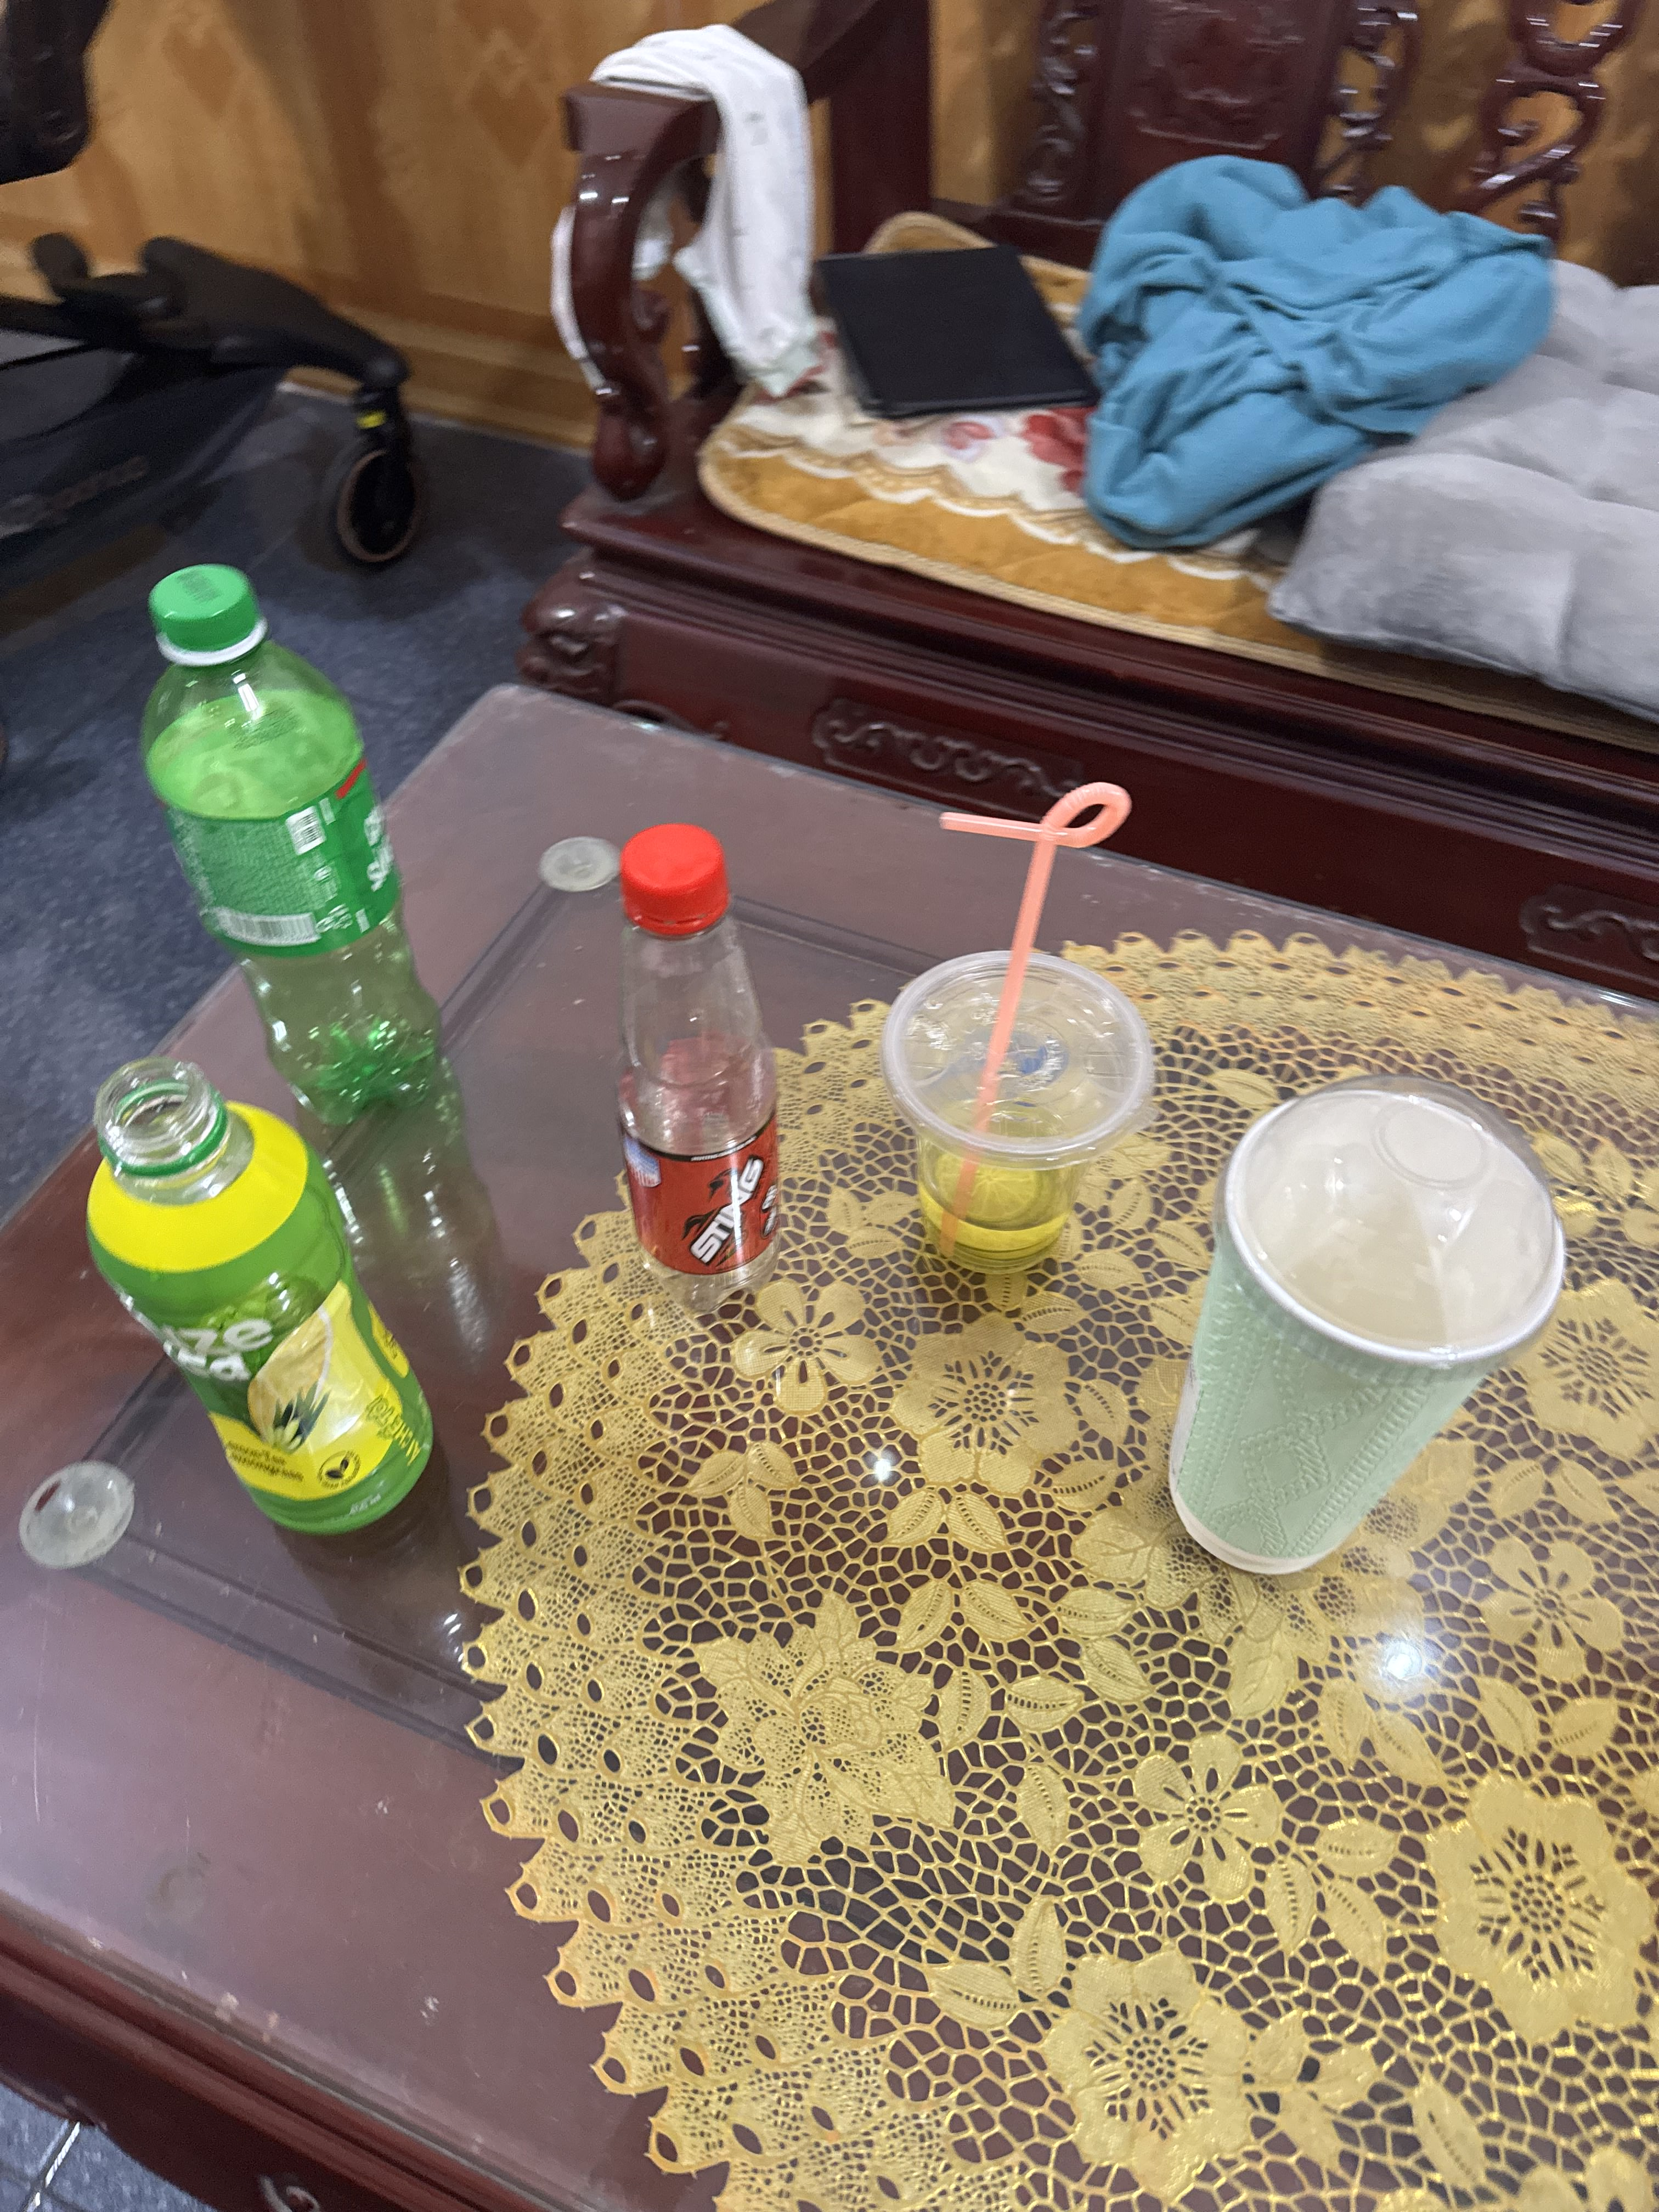bottle: (84, 510, 528, 1160), (56, 1015, 516, 1608), (545, 754, 854, 1388)
cup: (1126, 1033, 1593, 1644), (847, 880, 1166, 1331)
